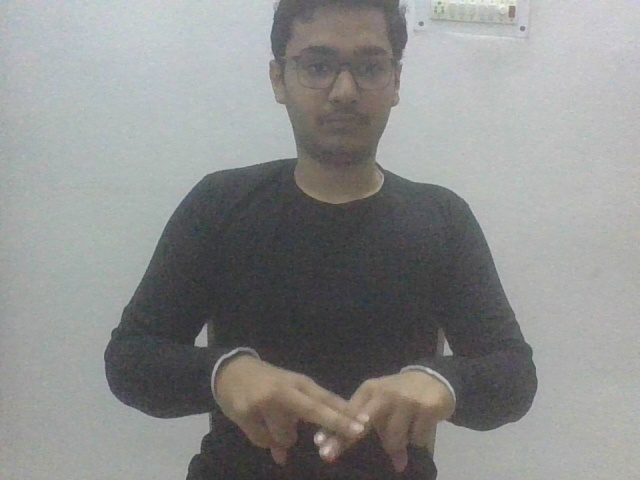F: (209, 346, 456, 476)
